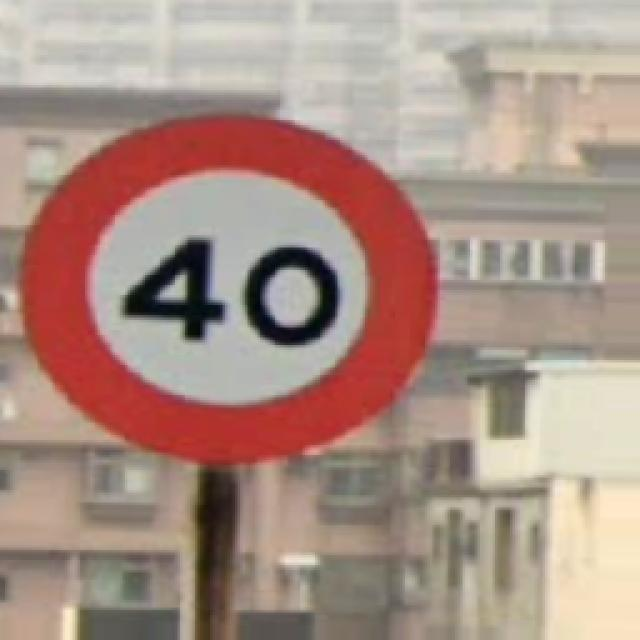Speed Limit -40-: (22, 118, 435, 462)
